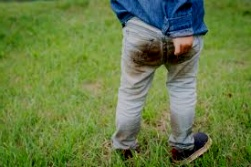earth: (134, 46, 173, 65)
